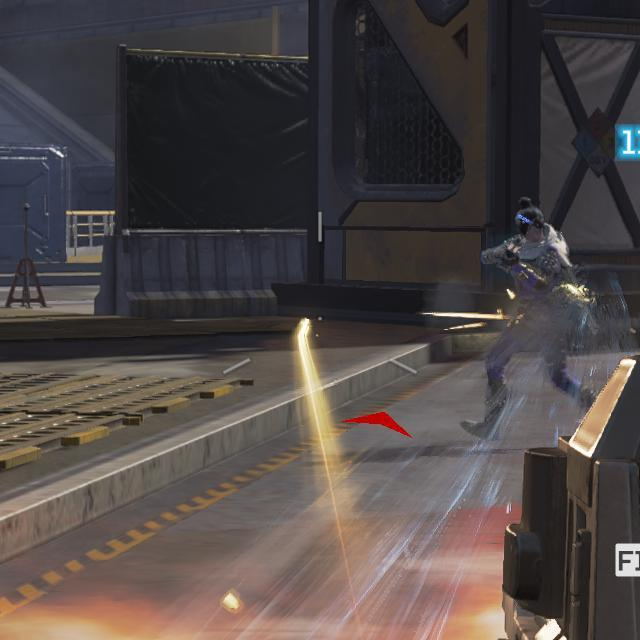avatar: (460, 196, 602, 444)
